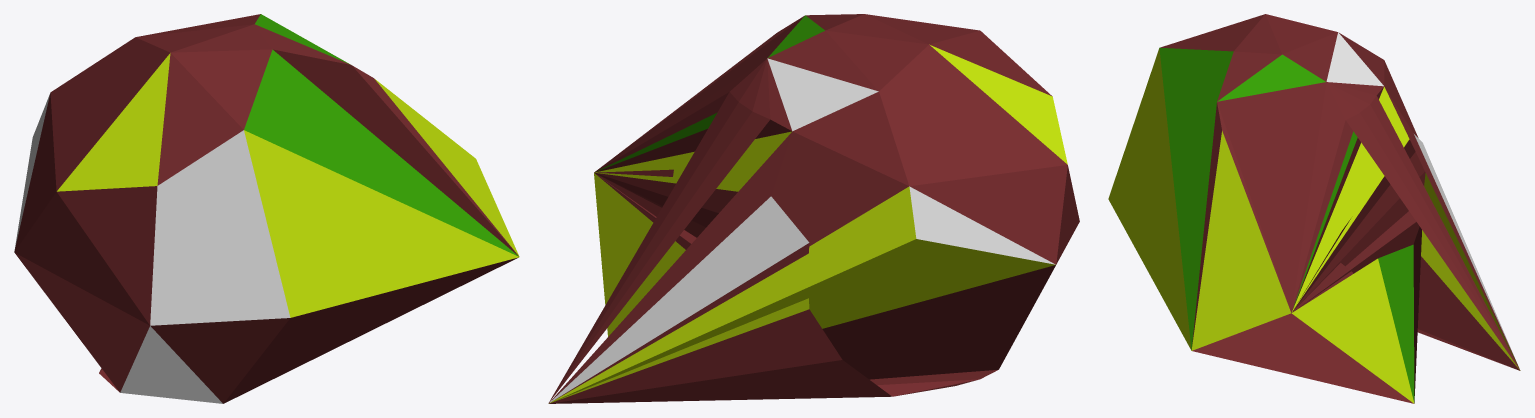
Rendered from Vomit2.fbx.
The picture shows the model from 3 angles, left to right: view 1: azimuth 30°, elevation 25°; view 2: azimuth 150°, elevation 25°; view 3: azimuth 270°, elevation 25°; orthographic projection. The views are drawn at different scales.
Visible parts, largest first — view 1: Sphere; view 2: Sphere; view 3: Sphere.
Part boxes in pixels (x1,y1,x2,y2): Sphere: (14, 14, 519, 403); Sphere: (548, 14, 1079, 403); Sphere: (1108, 14, 1520, 403).
Size of the model in its own units: 283 by 203 by 257.
